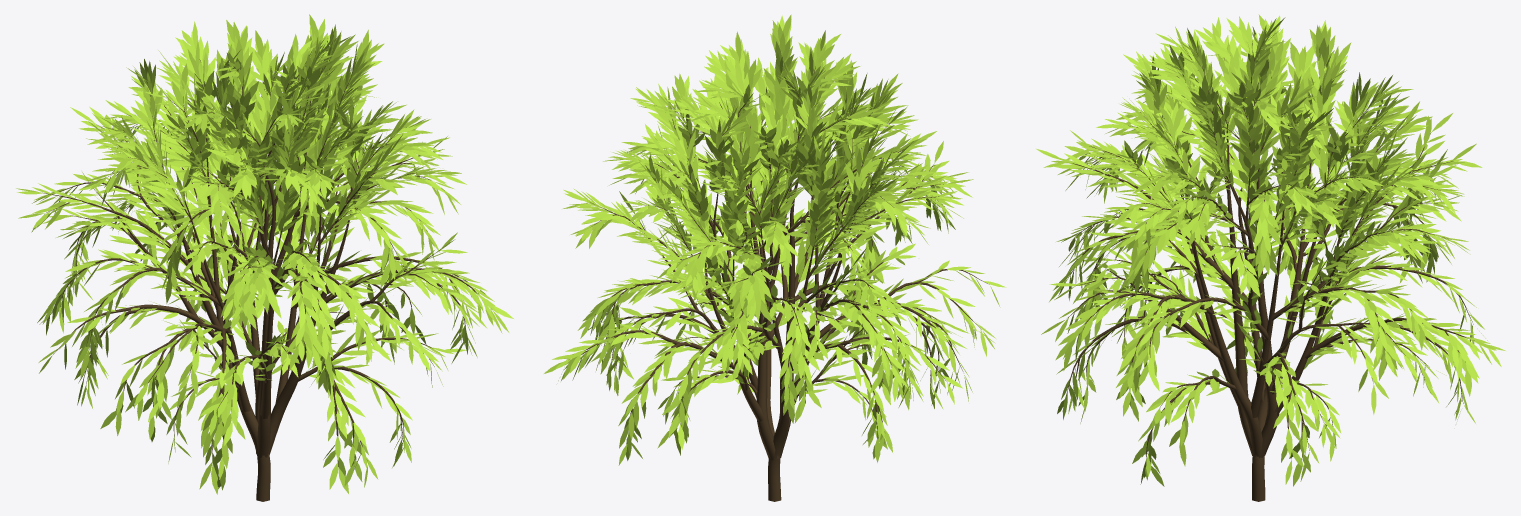
The model's file is treeNew02.glb.
3 views of the same model, side by side, from view 1: azimuth 30°, elevation 25°; view 2: azimuth 150°, elevation 25°; view 3: azimuth 270°, elevation 25° (orthographic). The views are drawn at different scales.
Parts seen in each view (by area): view 1: leaves, tree; view 2: leaves, tree; view 3: leaves, tree.
Part boxes in pixels (box(x1,y1,x2,y2)): leaves: box(16, 14, 513, 494); tree: box(42, 50, 491, 501); leaves: box(544, 14, 1006, 465); tree: box(569, 66, 989, 501); leaves: box(1036, 14, 1505, 486); tree: box(1065, 41, 1474, 501).
Size of the model in its own units: 5.78 by 6.85 by 6.09.
